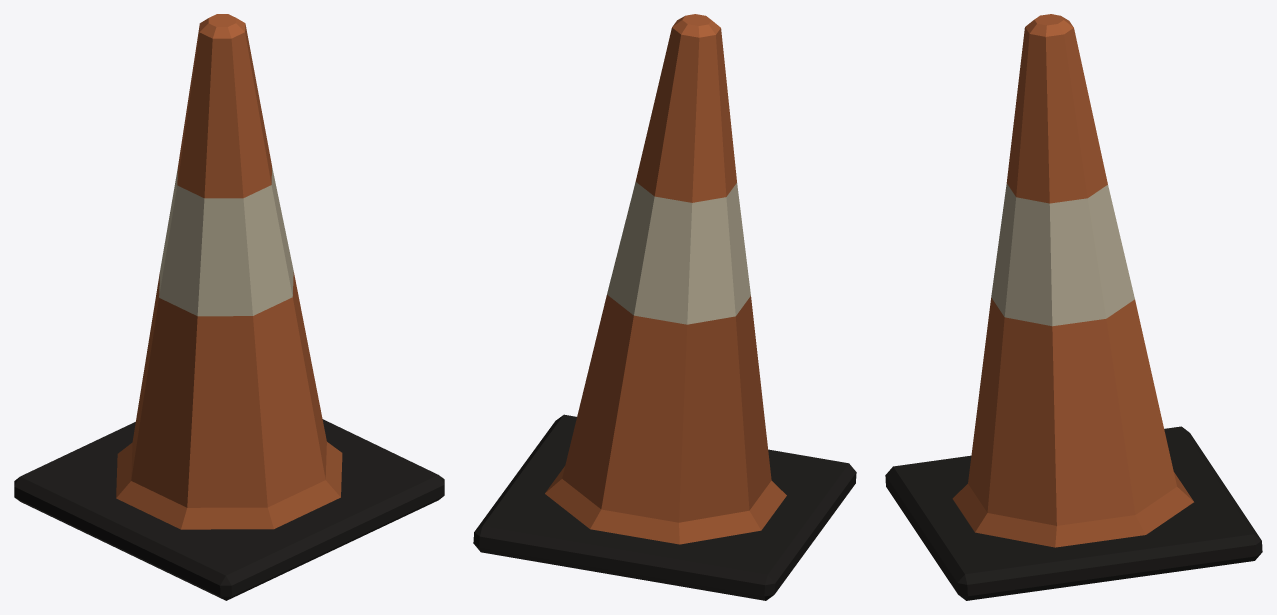
The picture shows the model from 3 angles, left to right: view 1: azimuth 30°, elevation 25°; view 2: azimuth 150°, elevation 25°; view 3: azimuth 270°, elevation 25°; orthographic projection.
Visible parts, largest first — view 1: cone.001; view 2: cone.001; view 3: cone.001.
Boxes of the visible parts, x1=… form: cone.001: x1=14, y1=14, x2=444, y2=600; cone.001: x1=473, y1=14, x2=856, y2=600; cone.001: x1=885, y1=14, x2=1262, y2=600.
Bounding box in the file's own units: 0.4565 × 0.6805 × 0.456.
